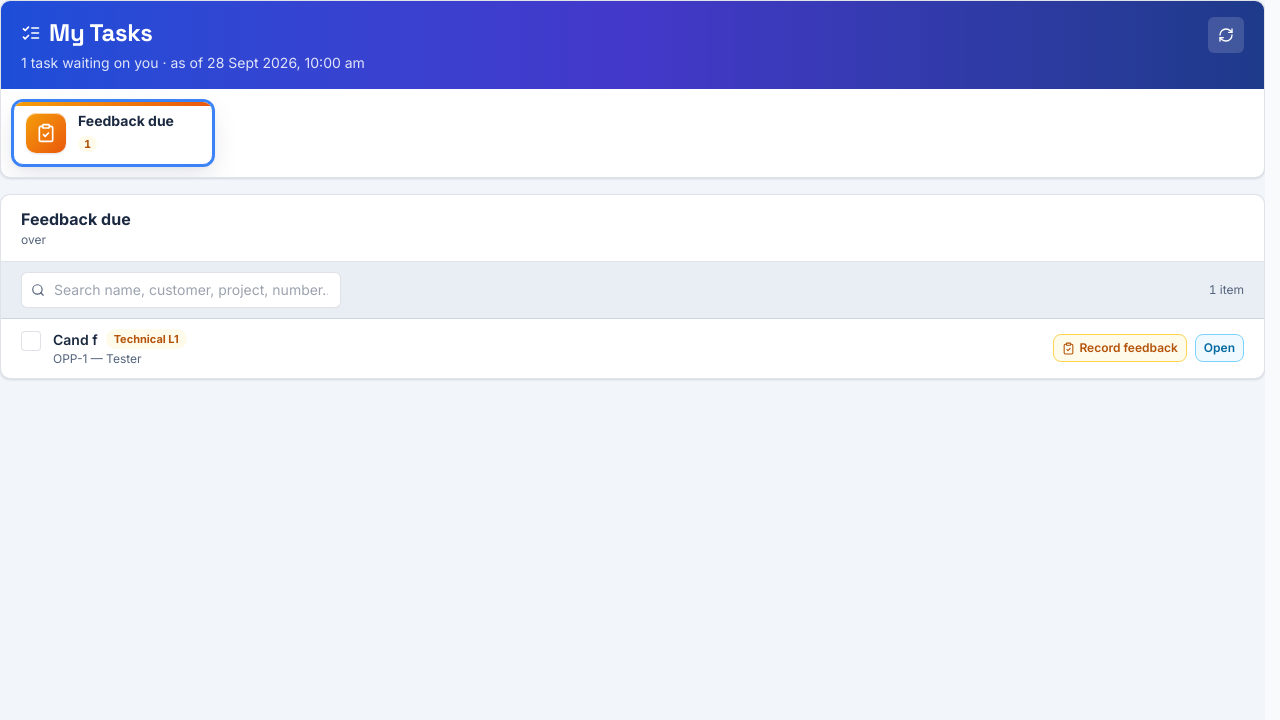
Test: MyTasksPage › opens the interviews pop-up for a feedback item instead of leaving the page
Click the button "Record feedback". click: (1120, 348)
box: [1053,334,1187,362]
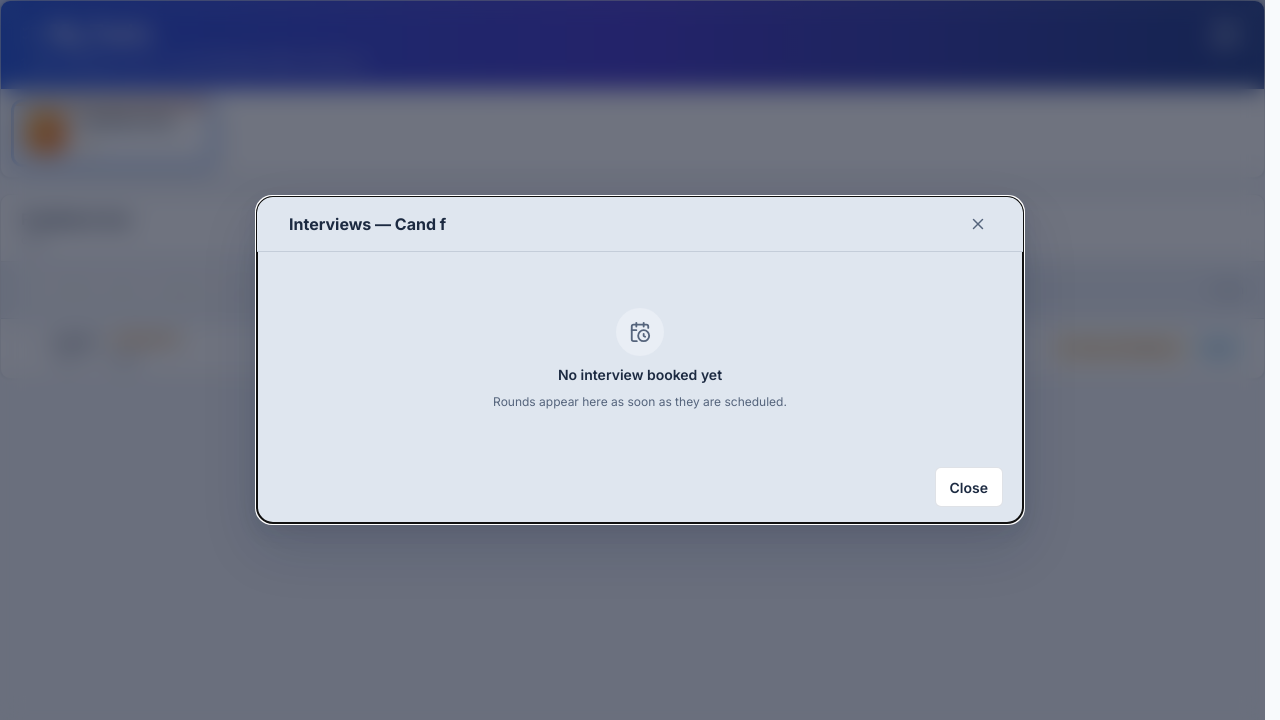
Check: the dialog "Interviews — Cand f" is shown, box [256,196,1024,524]
